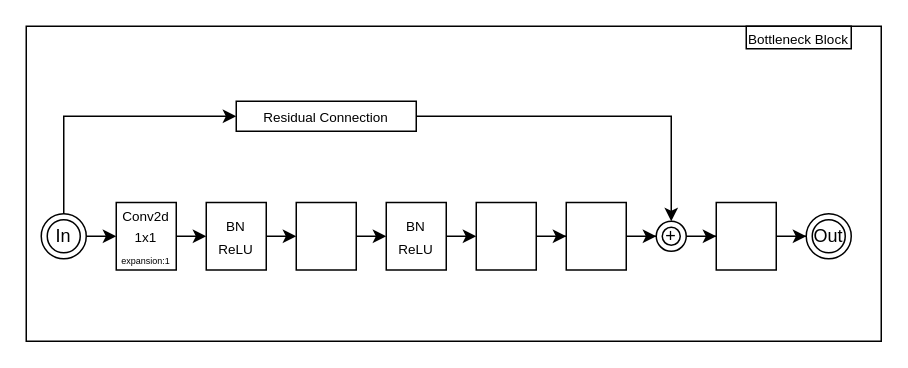
Some shapes in this 908 by 368 pixel diagram are drawn without their labels. The shapes that lost their labels are listed below. From the top down, each one's centre as x and y in pixels, then its label:
[325,235]: Conv2d 3x3 s1,p1
[505,235]: Conv2d 1x1 expansion:4
[595,235]: BN
[745,235]: Relu
